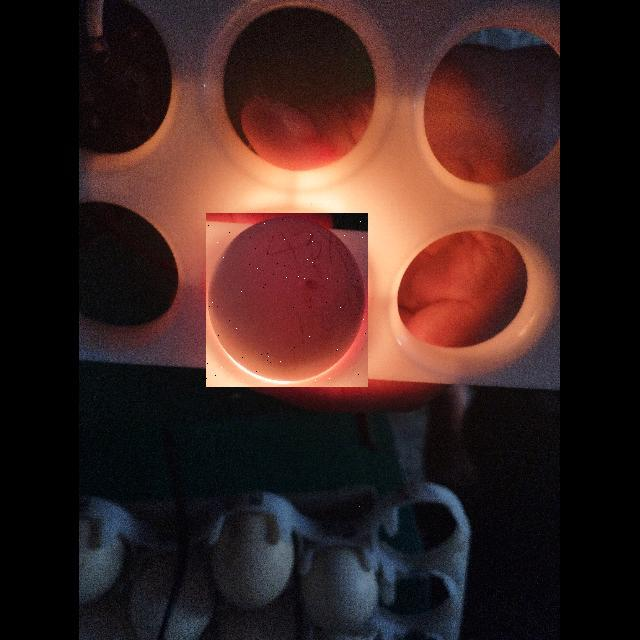Fertile: (206, 213, 368, 387)
